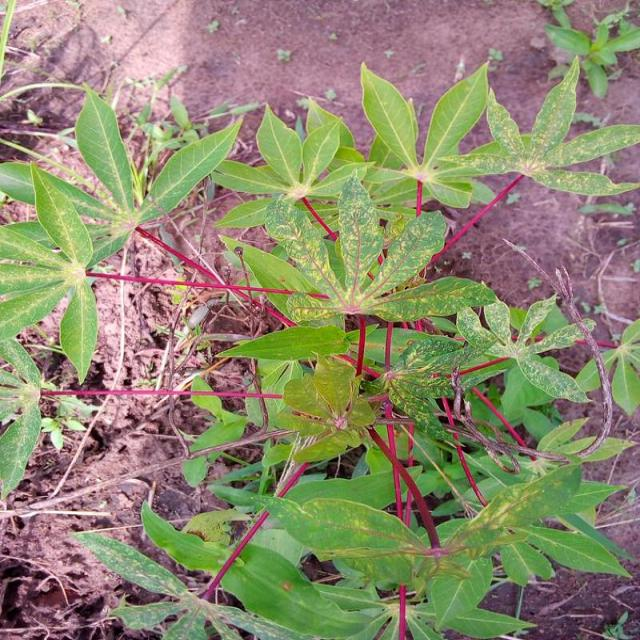cassava leaf: (2, 53, 638, 638)
